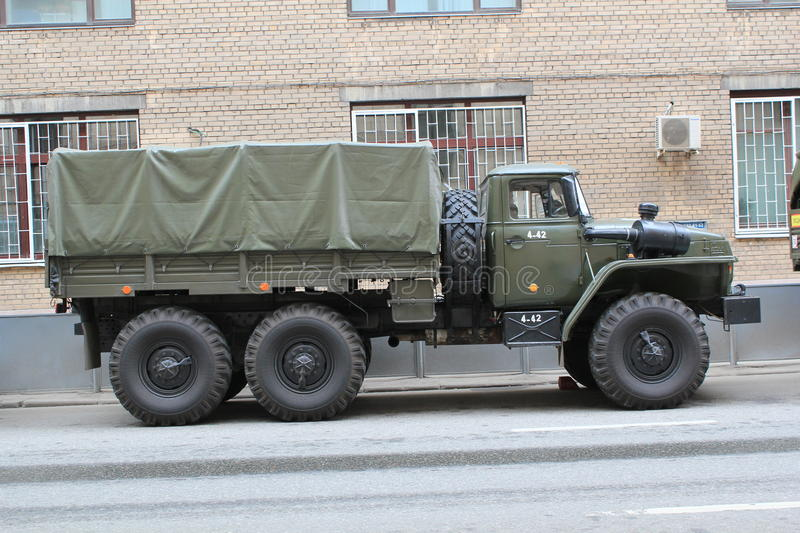camion: (48, 139, 747, 413)
